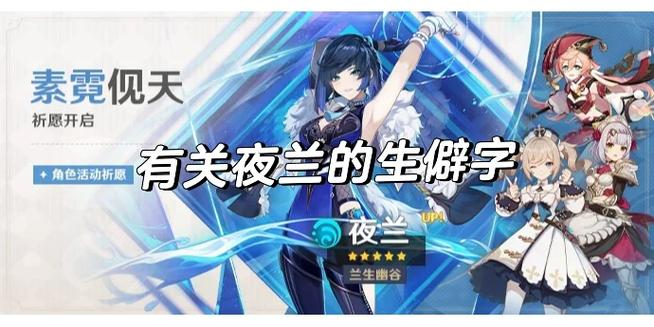夜兰: (280, 13, 461, 313)
